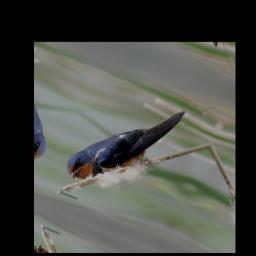Swallow: (60, 78, 186, 207)
